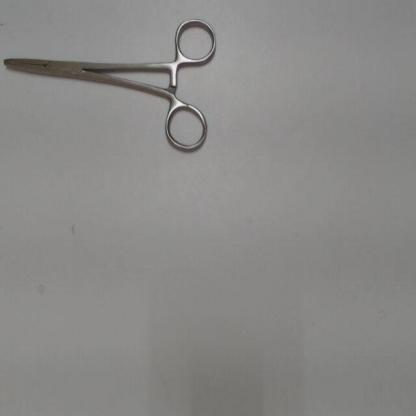Mayo Needle Holder: (1, 14, 223, 162)
